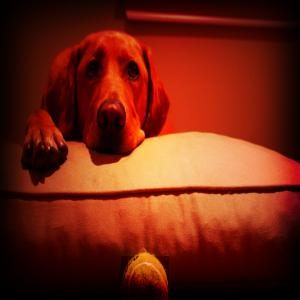TennisBall: (122, 257, 171, 299)
